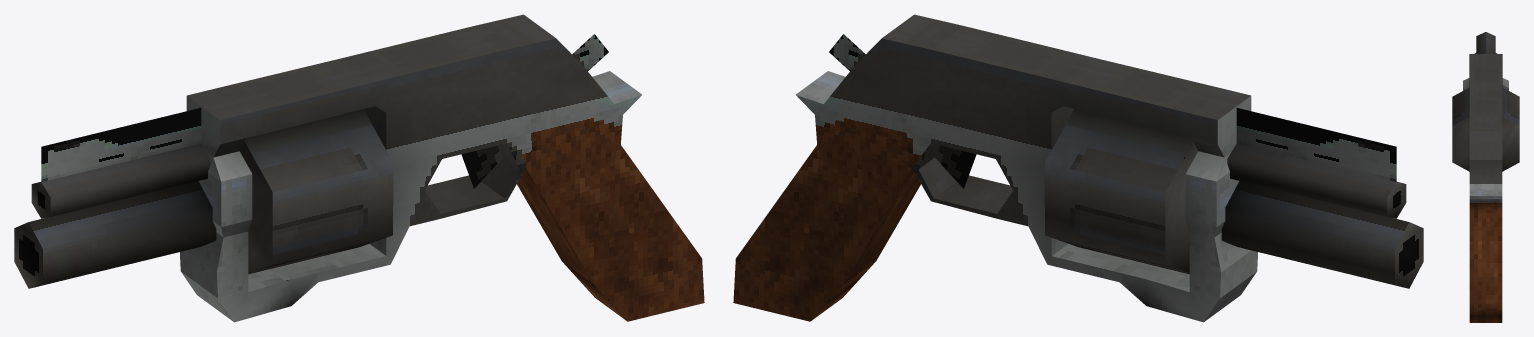
The model's file is sub_nivis_gun.gltf.
The picture shows the model from 3 angles, left to right: view 1: azimuth 30°, elevation 25°; view 2: azimuth 150°, elevation 25°; view 3: azimuth 270°, elevation 25°; orthographic projection. The views are drawn at different scales.
Parts seen in each view (by area): view 1: 01_gun; view 2: 01_gun; view 3: 01_gun.
Boxes of the visible parts, x1=… form: 01_gun: x1=14, y1=14, x2=704, y2=322; 01_gun: x1=733, y1=14, x2=1423, y2=322; 01_gun: x1=1452, y1=32, x2=1519, y2=322.
Size of the model in its own units: 0.2622 by 0.1148 by 0.0466.
3 materials, 3 textured.
